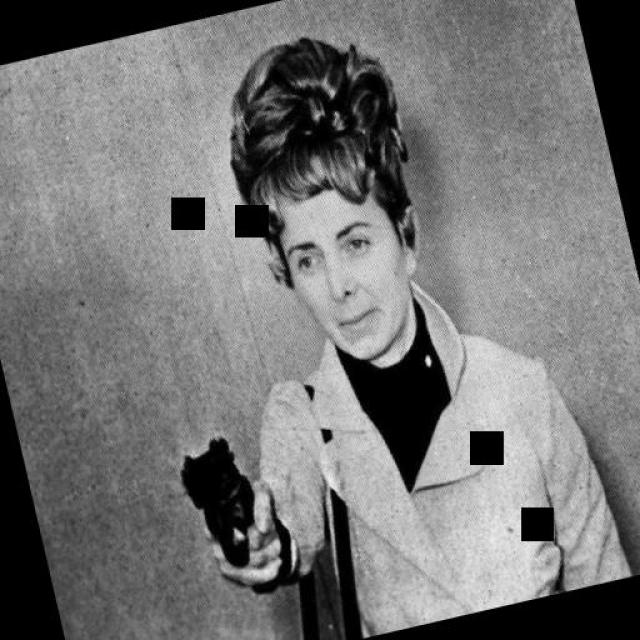gun: (164, 422, 271, 582)
